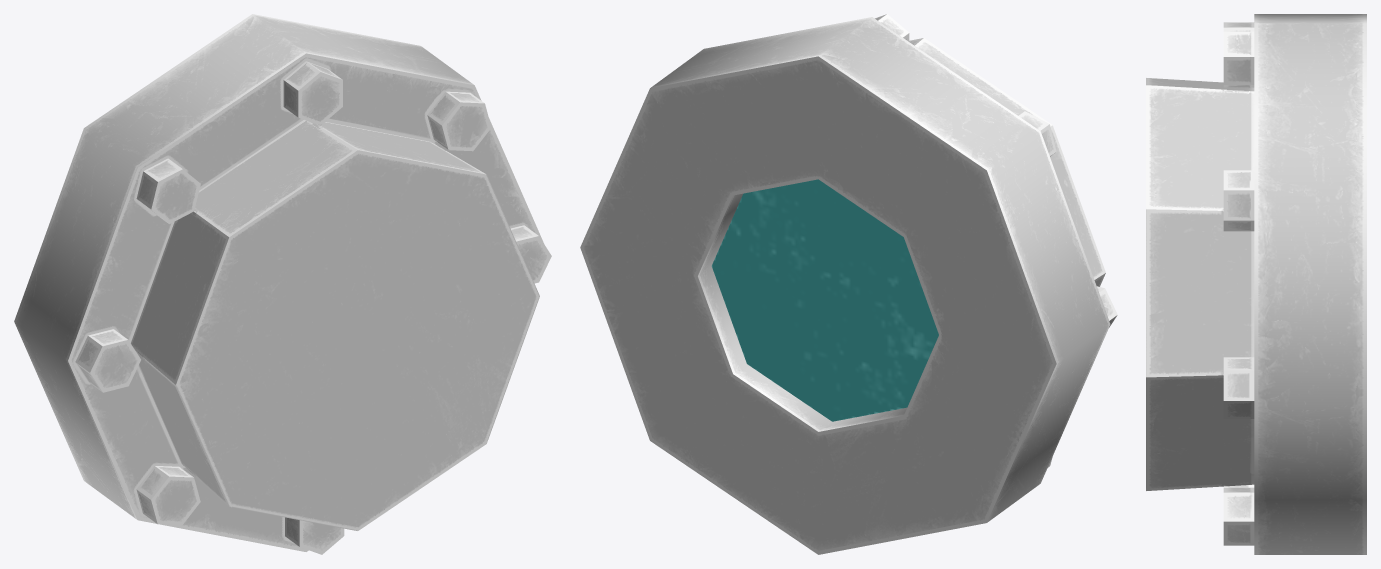
The model's file is Pipe_Cap_Emissive.glb.
3 views of the same model, side by side, from view 1: azimuth 30°, elevation 25°; view 2: azimuth 150°, elevation 25°; view 3: azimuth 270°, elevation 25° (orthographic). The views are drawn at different scales.
Visible parts, largest first — view 1: add_caps.001; view 2: add_caps.001; view 3: add_caps.001.
Part boxes in pixels (x1,y1,x2,y2): add_caps.001: (14,14,551,554); add_caps.001: (580,14,1117,554); add_caps.001: (1146,14,1366,554).
Size of what is drawn, in the model's own units: 0.7504 by 0.7504 by 0.2879.
1 material, 1 textured.
